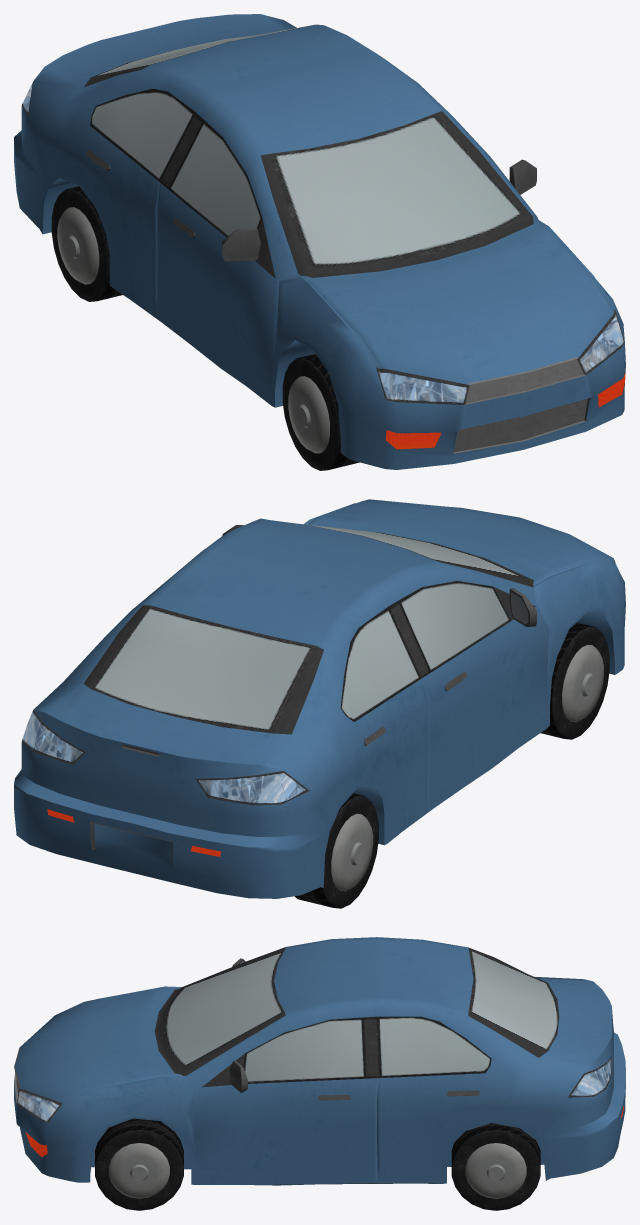
The picture shows the model from 3 angles, top to bottom: view 1: azimuth 30°, elevation 25°; view 2: azimuth 150°, elevation 25°; view 3: azimuth 270°, elevation 25°; orthographic projection. The views are drawn at different scales.
Parts seen in each view (by area): view 1: sedan_car_body, sedan_car_wheel_rf, sedan_car_wheel_rb; view 2: sedan_car_body, sedan_car_wheel_rf, sedan_car_wheel_rb; view 3: sedan_car_body, sedan_car_wheel_lf, sedan_car_wheel_lb.
Boxes of the visible parts, <box> form: sedan_car_body: <box>14,14,625,469</box>; sedan_car_wheel_rf: <box>282,353,359,470</box>; sedan_car_wheel_rb: <box>51,186,122,301</box>; sedan_car_body: <box>14,499,625,898</box>; sedan_car_wheel_rf: <box>540,622,609,739</box>; sedan_car_wheel_rb: <box>294,793,378,908</box>; sedan_car_body: <box>14,937,625,1185</box>; sedan_car_wheel_lf: <box>95,1118,183,1210</box>; sedan_car_wheel_lb: <box>451,1123,540,1210</box>.
Bounding box in the file's own units: 281 × 212 × 614.
11 materials, 11 textured.
